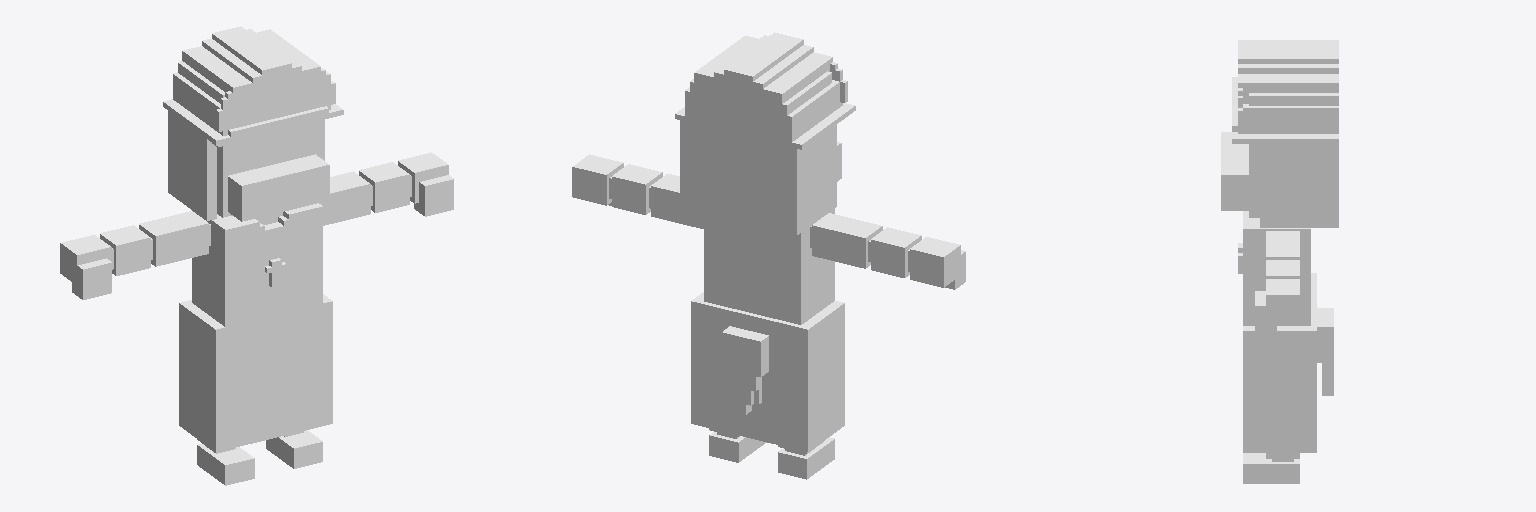
Rendered from nun.obj.
The picture shows the model from 3 angles: view 1: azimuth 30°, elevation 25°; view 2: azimuth 150°, elevation 25°; view 3: azimuth 270°, elevation 25°; orthographic projection.
Visible parts, largest first — view 1: nun; view 2: nun; view 3: nun.
Part boxes in pixels (x1,y1,x2,y2): nun: (60, 26, 453, 485); nun: (572, 32, 965, 479); nun: (1221, 40, 1338, 483).
Bounding box in the file's own units: 76 × 80 × 21.